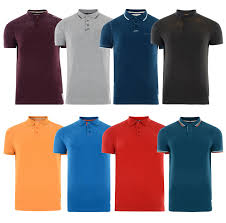C_polo shirt: (101, 111, 172, 213), (148, 10, 224, 104), (158, 115, 224, 210), (54, 114, 117, 213), (101, 7, 163, 104), (3, 10, 66, 105), (55, 11, 115, 103), (10, 114, 66, 210)
